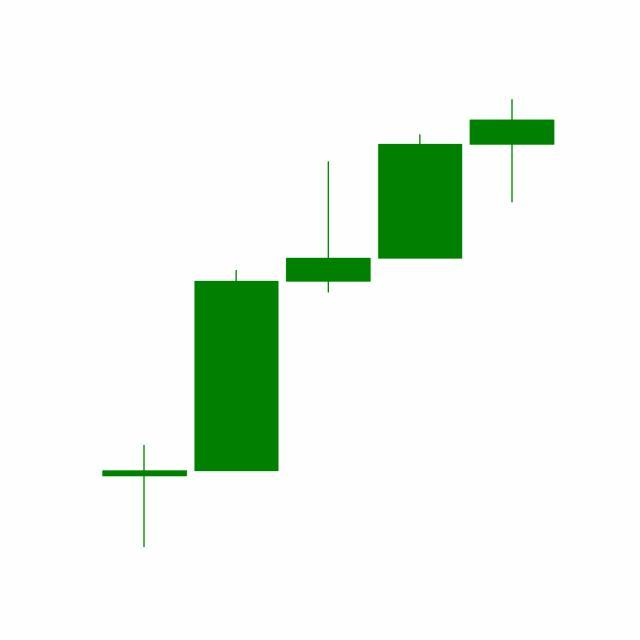Dragonfly Doji: (466, 99, 559, 205)
